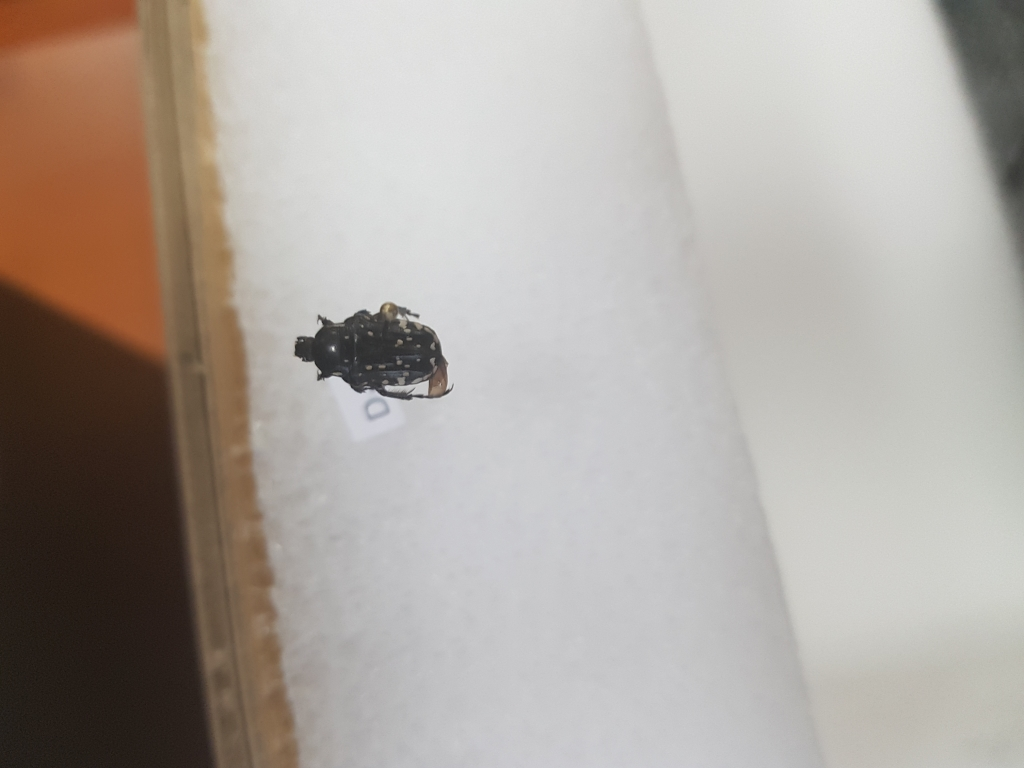Oxythyrea_cinctella: (293, 300, 460, 408)
